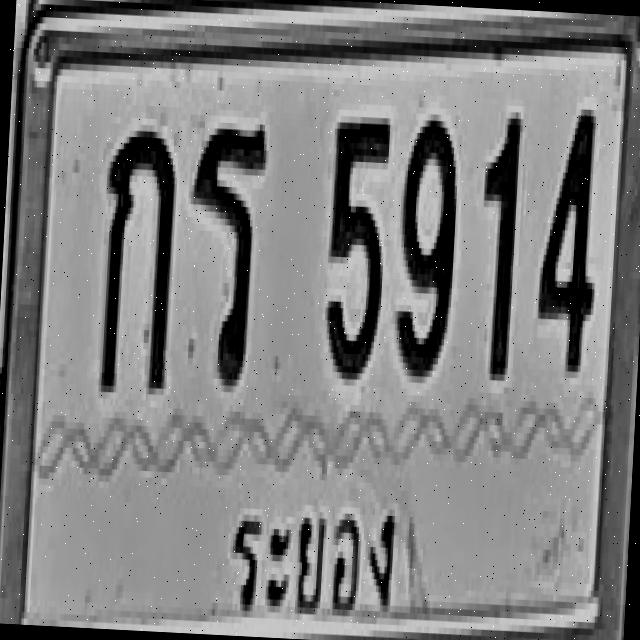1: (473, 111, 522, 381)
10GorGai: (96, 124, 178, 396)
4: (534, 101, 603, 373)
44RorRuea: (182, 121, 268, 387)
5: (322, 113, 391, 384)
9: (392, 113, 461, 378)
Rayong: (217, 483, 408, 640)
